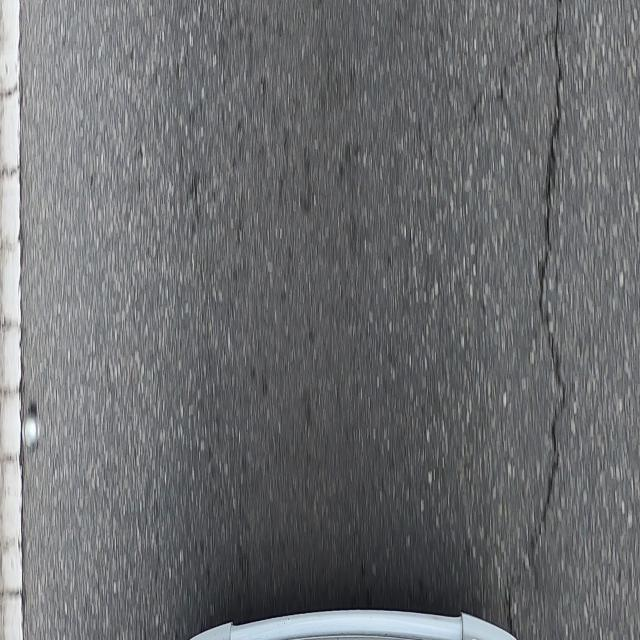Retak-Memanjang: (504, 0, 569, 636)
